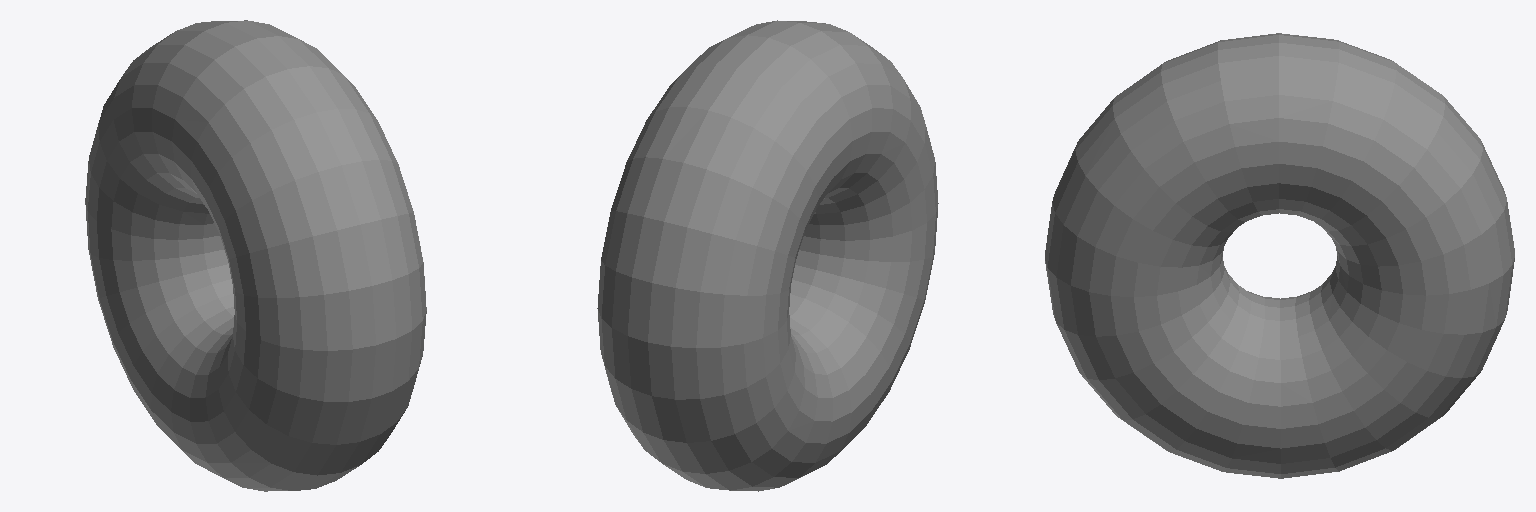
URDF robot description (cube.urdf):
<?xml version="0.0" ?> 
<robot name="cube.urdf"> 
<link name="legobrick"> 
<contact> 
<lateral_friction value="1.0"/>
<rolling_friction value="0.0"/>
<contact_cfm value="0.0"/>
<contact_erp value="1.0"/>
</contact> 
<inertial> 
<origin rpy="0 0 0" xyz="0.0 0.0 0.0"/> 
<mass value="0.1"/> 
<inertia ixx="1" ixy="0" ixz="0" iyy="1" iyz="0" izz="1"/> 
</inertial> 
<visual> 
<origin rpy="1.570796 0 0" xyz="-3.4232679705329353e-19 8.859953703702672e-07 3.148437500001822e-06"/> 
<geometry> 
<mesh filename="7cde0fe08897826bc8635ea1c31dd83b.obj" scale="1 1 1"/> 
</geometry> 
<material name="yellow"> 
<color rgba="0.6 0.6 0.6 1"/> 
</material> 
</visual> 
<collision> 
<origin rpy="1.570796 0 0" xyz="-3.4232679705329353e-19 8.859953703702672e-07 3.148437500001822e-06"/> 
<geometry> 
<mesh filename="7cde0fe08897826bc8635ea1c31dd83b_col.obj" scale="1 1 1"/> 
</geometry> 
</collision> 
</link> 
</robot>

--- What the picture shows (computed from the rendered views, not written in the file) ---
3 views of the same robot in one strip: view 1: azimuth 30°, elevation 25°; view 2: azimuth 150°, elevation 25°; view 3: azimuth 270°, elevation 25° (orthographic).
Model cube.urdf with 1 links and 0 joints (none), rooted at legobrick, posed all joints at 0.
Visible links, largest first — view 1: legobrick; view 2: legobrick; view 3: legobrick.
Boxes of the visible links, x1=… form: legobrick: x1=85, y1=20, x2=426, y2=491; legobrick: x1=597, y1=20, x2=938, y2=491; legobrick: x1=1045, y1=33, x2=1514, y2=478.
Size in the robot's own frame: 0.0183 by 0.045 by 0.045 metres.
1 mesh visuals loaded from 1 distinct referenced files (1 OBJ).